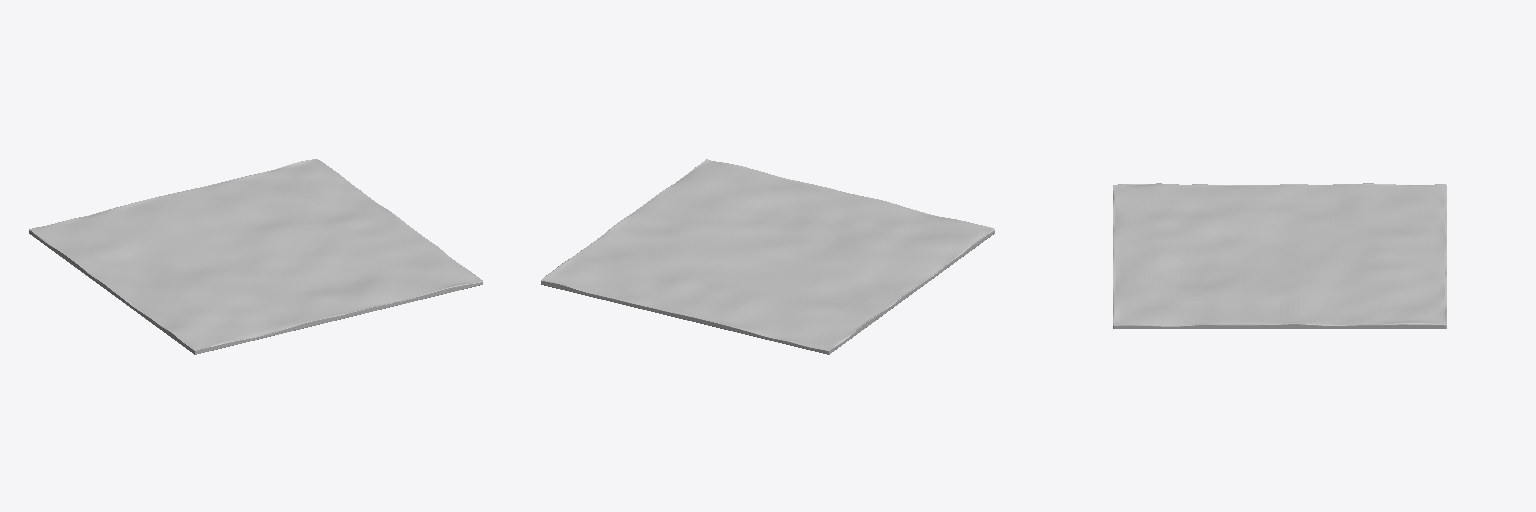
Rendered from grass.obj.
3 renders of one model, left to right at view 1: azimuth 30°, elevation 25°; view 2: azimuth 150°, elevation 25°; view 3: azimuth 270°, elevation 25°, orthographic.
Parts seen in each view (by area): view 1: 10450_Rectangular_Grass_Patch_v1_iterations-2; view 2: 10450_Rectangular_Grass_Patch_v1_iterations-2; view 3: 10450_Rectangular_Grass_Patch_v1_iterations-2.
Part boxes in pixels (left/top/right/bottom): 10450_Rectangular_Grass_Patch_v1_iterations-2: left=29, top=159, right=482, bottom=354; 10450_Rectangular_Grass_Patch_v1_iterations-2: left=541, top=159, right=994, bottom=354; 10450_Rectangular_Grass_Patch_v1_iterations-2: left=1113, top=183, right=1446, bottom=328.
Size of the model in its own units: 150 by 2.95 by 150.